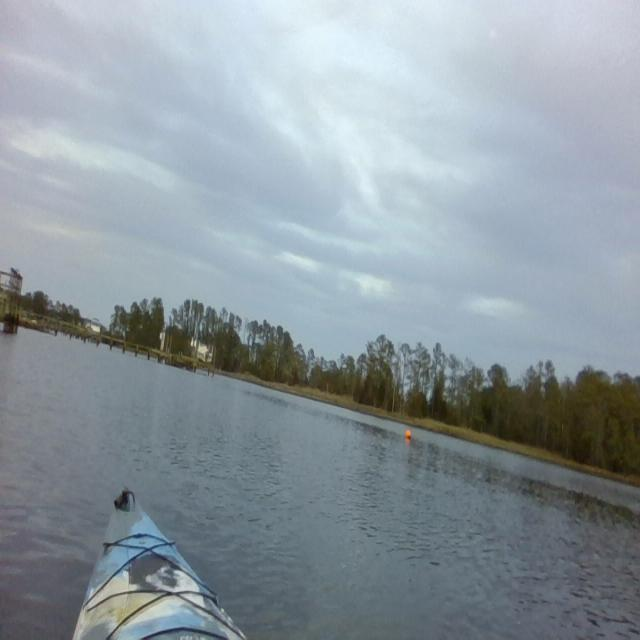Buoy: (404, 424, 414, 446)
